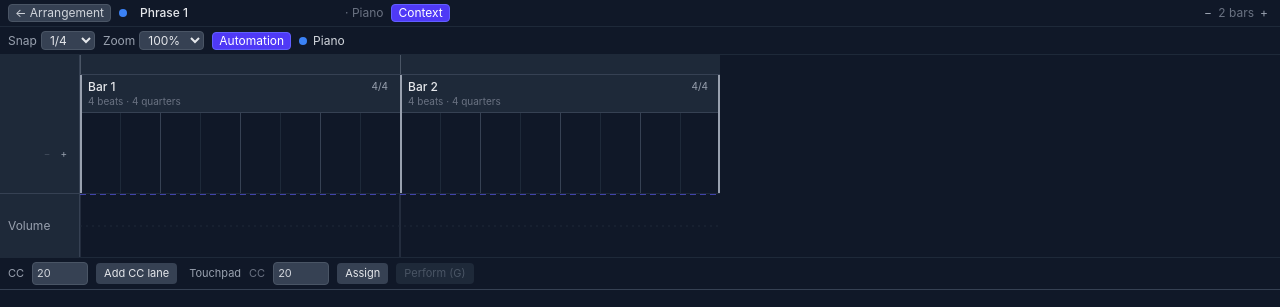
Test: ChordTimeline › phrase length › appends an empty bar, which the timeline then draws
The width and height of the screenshot is (1280, 307).
Click the button named "Add bar": (1264, 13) [1256,5,1272,21]
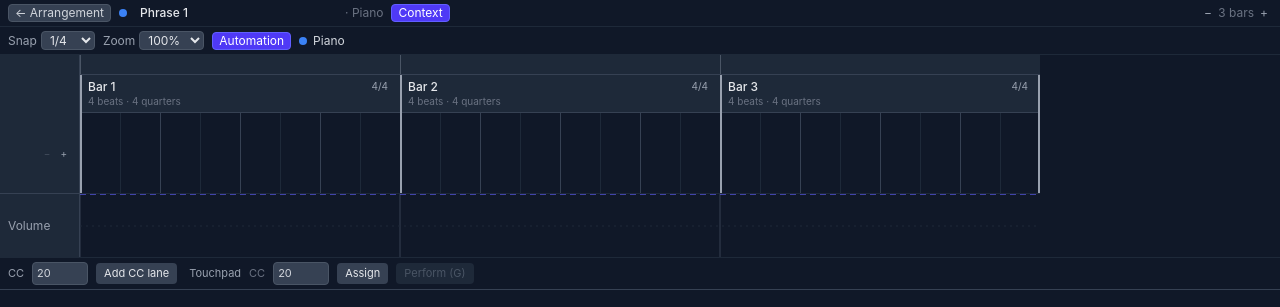
Check: the text "Bar 3" is shown, box [728,79,758,95]
